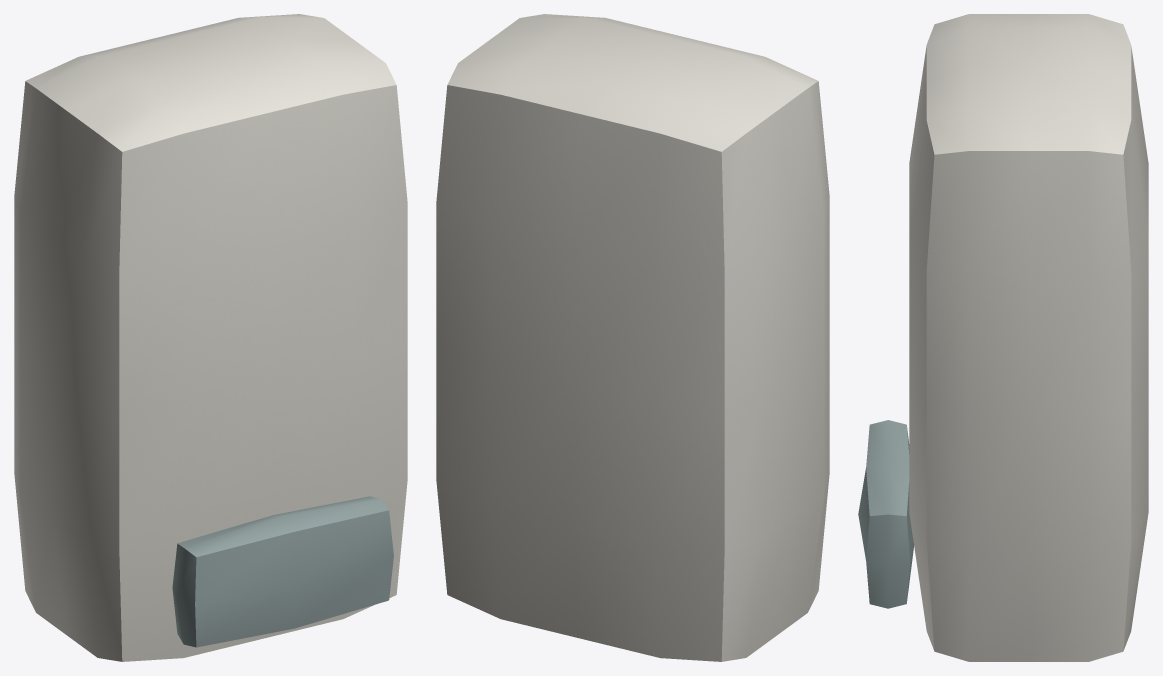
The model's file is soap-dispenser.glb.
3 renders of one model, left to right at view 1: azimuth 30°, elevation 25°; view 2: azimuth 150°, elevation 25°; view 3: azimuth 270°, elevation 25°, orthographic. The views are drawn at different scales.
Visible parts, largest first — view 1: soap-dispenser; view 2: soap-dispenser; view 3: soap-dispenser.
Part boxes in pixels (x1,y1,x2,y2): soap-dispenser: [14, 14, 407, 661]; soap-dispenser: [436, 14, 829, 661]; soap-dispenser: [858, 14, 1148, 661].
Size of the model in its own units: 0.12 by 0.2 by 0.097.
Materials: 2 (2 with a texture image).
